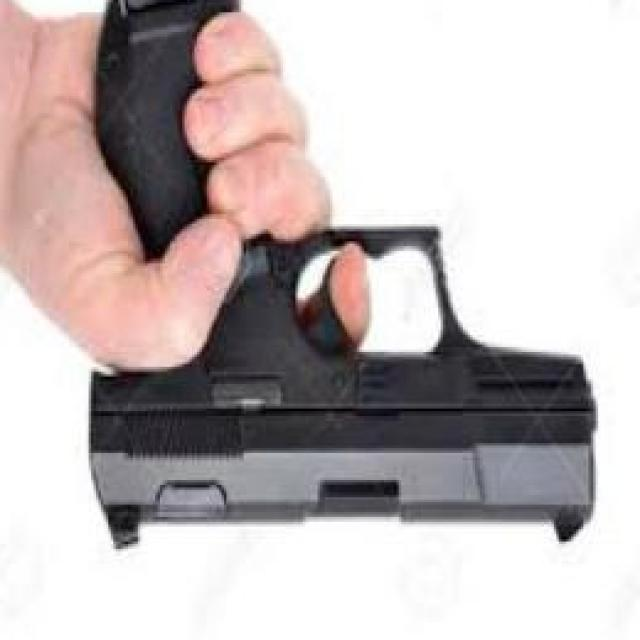pistol: (86, 0, 603, 544)
